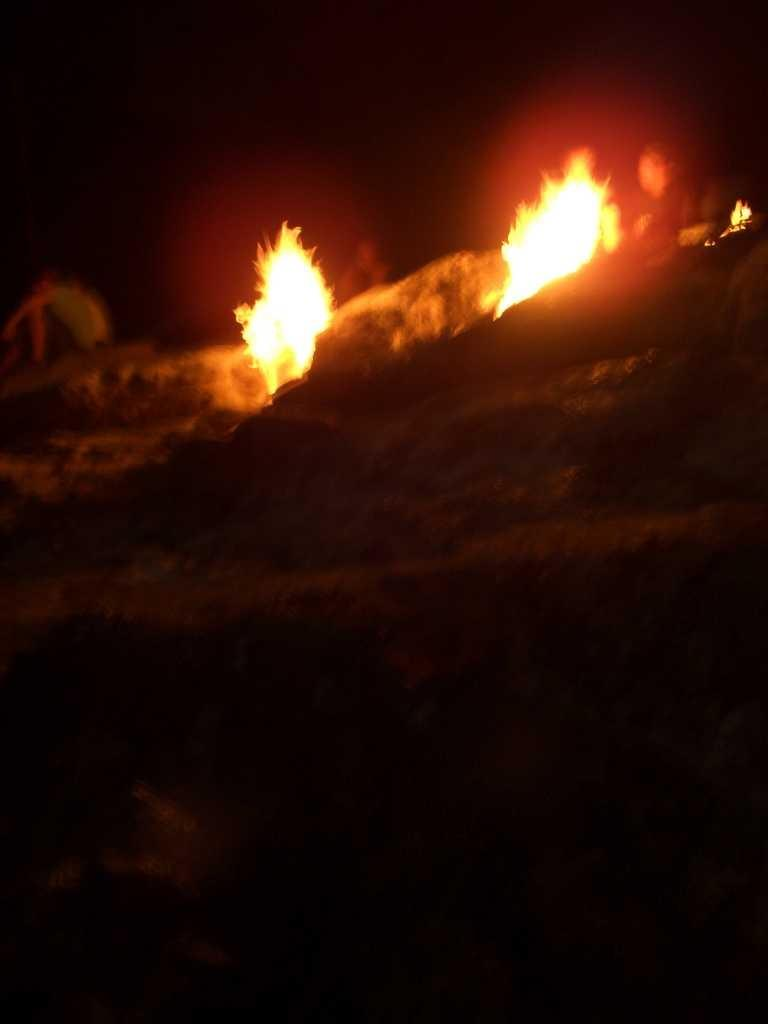fire: (487, 149, 625, 314), (235, 217, 344, 408)
